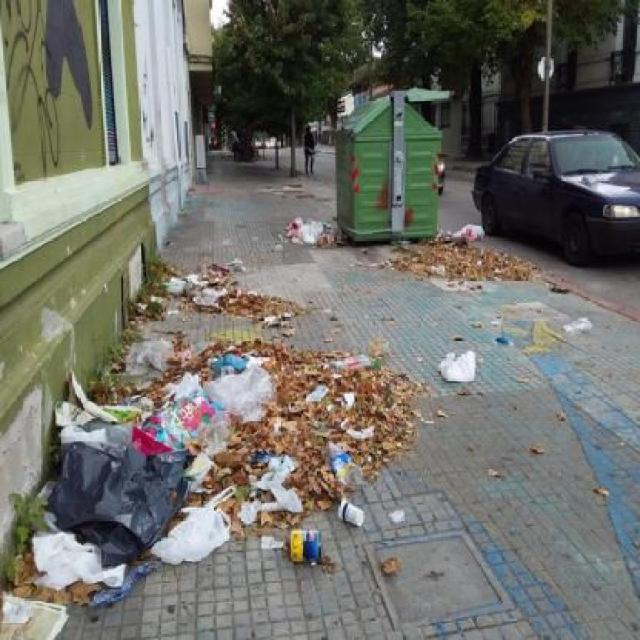garbage: (51, 385, 335, 610), (160, 265, 290, 325), (305, 452, 384, 543), (200, 343, 341, 380), (283, 202, 338, 262), (441, 329, 476, 408), (440, 217, 492, 246)
